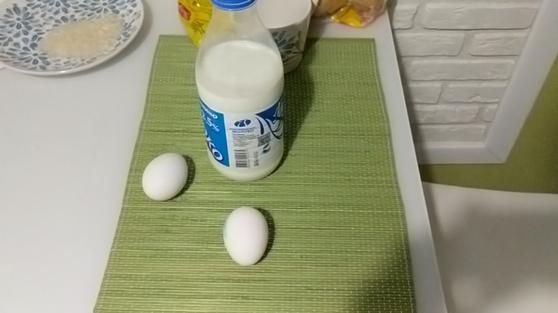egg: (219, 202, 284, 271), (134, 148, 195, 204)
milk: (189, 1, 293, 185)
rice: (32, 10, 130, 61)
